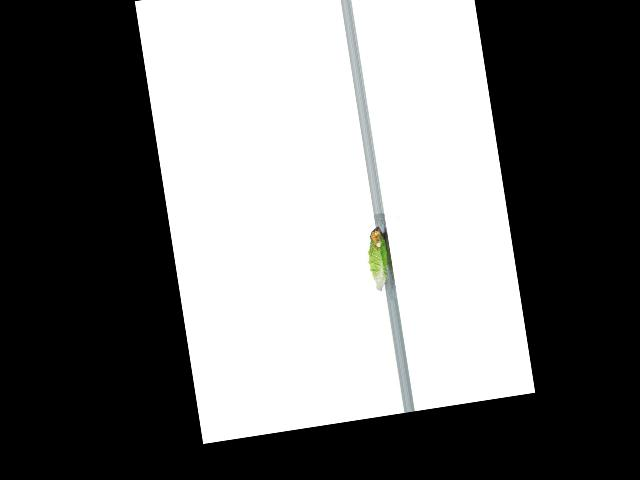lettuce: (361, 222, 396, 293)
